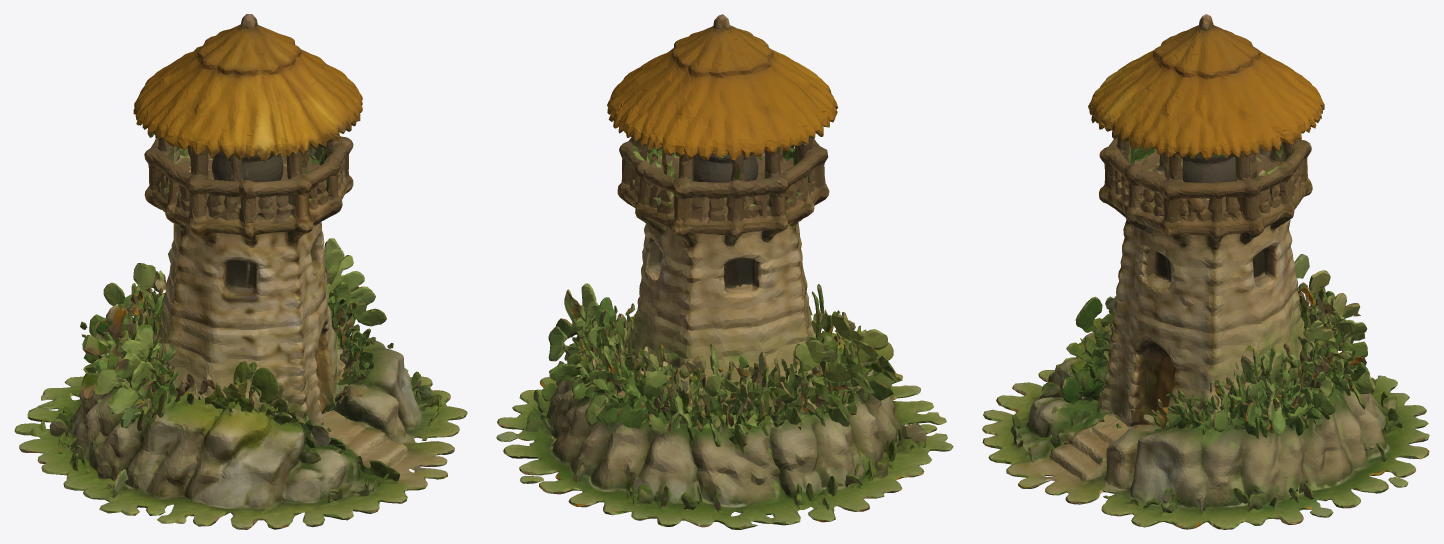
File: wc-watchtower-paint.glb
3 renders of one model, left to right at view 1: azimuth 30°, elevation 25°; view 2: azimuth 150°, elevation 25°; view 3: azimuth 270°, elevation 25°, orthographic.
Parts seen in each view (by area): view 1: geometry_0; view 2: geometry_0; view 3: geometry_0.
Part boxes in pixels (<box>): geometry_0: <box>14,14,467,529</box>; geometry_0: <box>496,14,953,529</box>; geometry_0: <box>982,14,1429,529</box>.
Size of the model in its own units: 1.9 by 1.99 by 1.91.
1 material, 1 textured.
